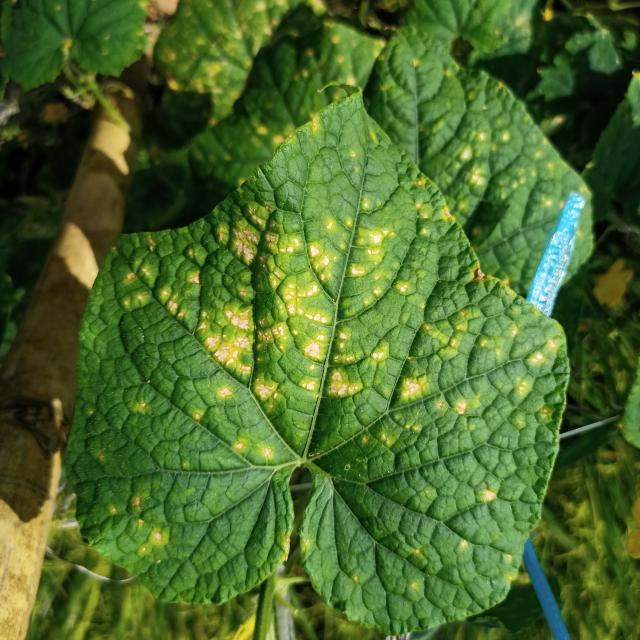disease_cucumber: (95, 131, 550, 593)
